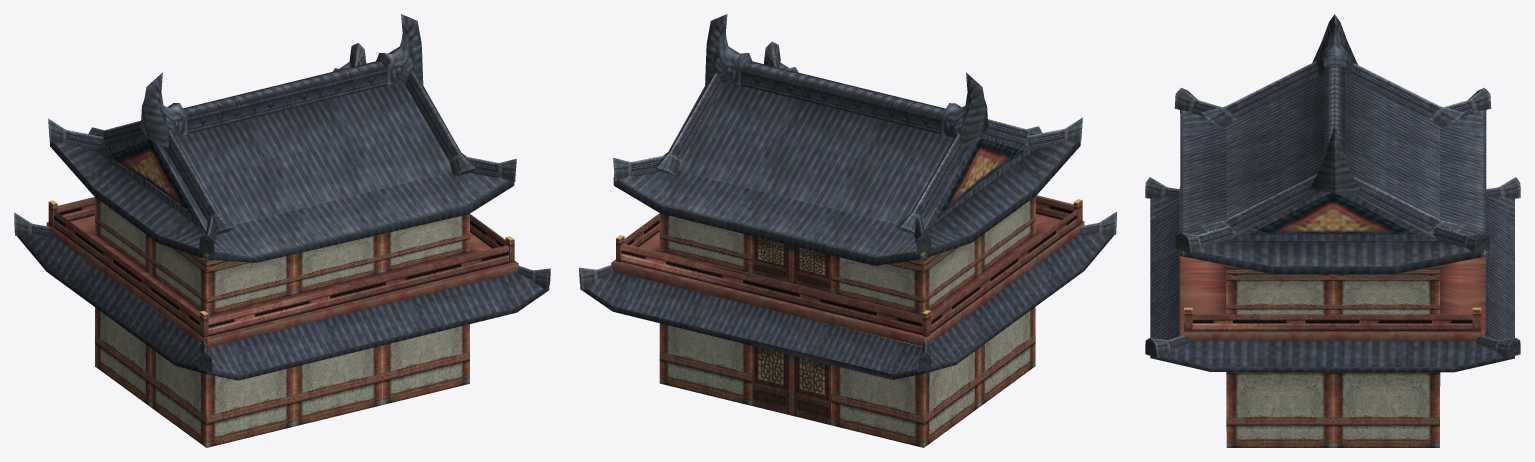
The model's file is house001.FBX.
The picture shows the model from 3 angles, left to right: view 1: azimuth 30°, elevation 25°; view 2: azimuth 150°, elevation 25°; view 3: azimuth 270°, elevation 25°; orthographic projection. The views are drawn at different scales.
Parts seen in each view (by area): view 1: house315; view 2: house315; view 3: house315.
Part boxes in pixels (x1,y1,x2,y2): house315: [14, 14, 550, 447]; house315: [579, 14, 1116, 447]; house315: [1145, 14, 1520, 447].
Size of the model in its own units: 99.08 by 89.3 by 95.82.
